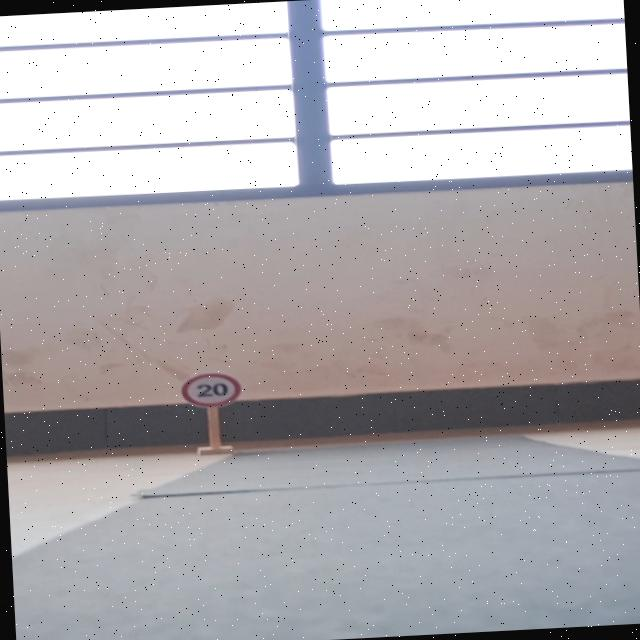Speed20: (176, 370, 244, 411)
